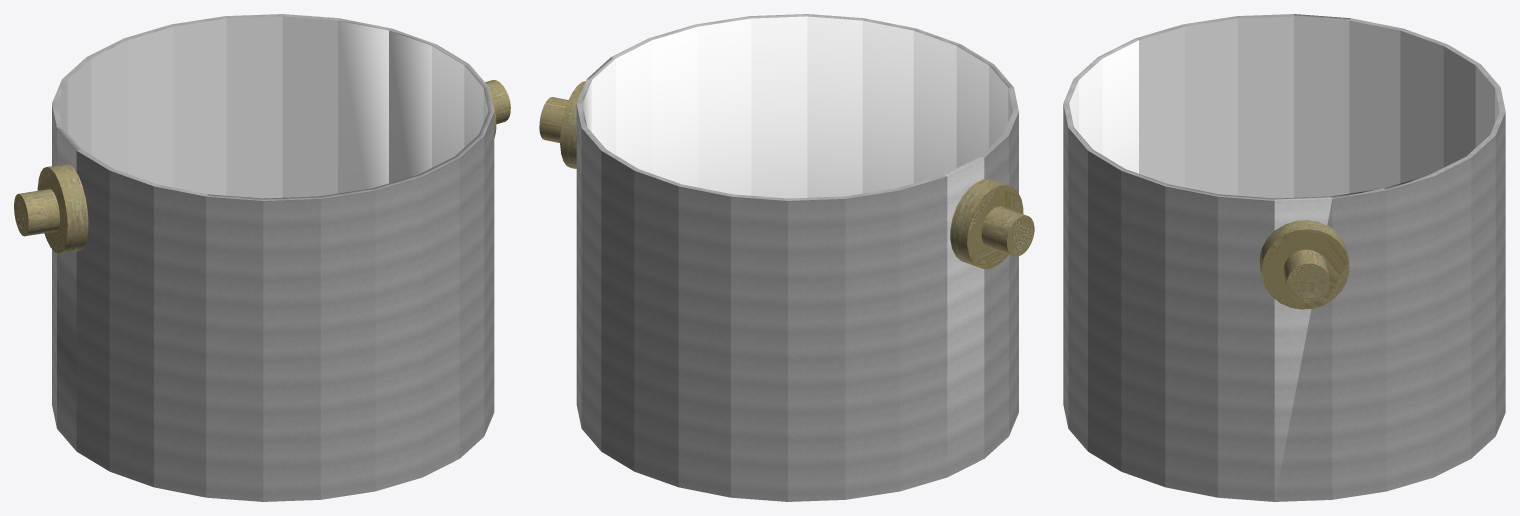
File: original-1.obj
The picture shows the model from 3 angles, left to right: view 1: azimuth 30°, elevation 25°; view 2: azimuth 150°, elevation 25°; view 3: azimuth 270°, elevation 25°; orthographic projection.
Parts seen in each view (by area): view 1: mesh1/mesh1-geometry#mesh1-geometry.042, mesh1/mesh1-geometry#mesh1-geometry.041, mesh1/mesh1-geometry#mesh1-geometry.040, mesh1/mesh1-geometry#mesh1-geometry.043, mesh1/mesh1-geometry#mesh1-geometry.039, mesh1/mesh1-geometry#mesh1-geometry.044, mesh1/mesh1-geometry#mesh1-geometry.038, mesh1/mesh1-geometry#mesh1-geometry.029, mesh1/mesh1-geometry#mesh1-geometry.030, mesh1/mesh1-geometry#mesh1-geometry.045, mesh1/mesh1-geometry#mesh1-geometry.028, mesh1/mesh1-geometry#mesh1-geometry.031 (+13 smaller); view 2: mesh1/mesh1-geometry#mesh1-geometry.049, mesh1/mesh1-geometry#mesh1-geometry.050, mesh1/mesh1-geometry#mesh1-geometry.048, mesh1/mesh1-geometry#mesh1-geometry.027, mesh1/mesh1-geometry#mesh1-geometry.047, mesh1/mesh1-geometry#mesh1-geometry.028, mesh1/mesh1-geometry#mesh1-geometry.037, mesh1/mesh1-geometry#mesh1-geometry.029, mesh1/mesh1-geometry#mesh1-geometry.038, mesh1/mesh1-geometry#mesh1-geometry.036, mesh1/mesh1-geometry#mesh1-geometry.046, mesh1/mesh1-geometry#mesh1-geometry.039 (+14 smaller); view 3: mesh1/mesh1-geometry#mesh1-geometry.034, mesh1/mesh1-geometry#mesh1-geometry.035, mesh1/mesh1-geometry#mesh1-geometry.032, mesh1/mesh1-geometry#mesh1-geometry.031, mesh1/mesh1-geometry#mesh1-geometry.036, mesh1/mesh1-geometry#mesh1-geometry.033, mesh1/mesh1-geometry#mesh1-geometry.030, mesh1/mesh1-geometry#mesh1-geometry.037, mesh1/mesh1-geometry#mesh1-geometry.045, mesh1/mesh1-geometry#mesh1-geometry.046, mesh1/mesh1-geometry#mesh1-geometry.044, mesh1/mesh1-geometry#mesh1-geometry.047 (+12 smaller).
Part boxes in pixels (<box>): mesh1/mesh1-geometry#mesh1-geometry.042: <box>206,194,263,501</box>; mesh1/mesh1-geometry#mesh1-geometry.041: <box>263,196,320,501</box>; mesh1/mesh1-geometry#mesh1-geometry.040: <box>320,188,375,499</box>; mesh1/mesh1-geometry#mesh1-geometry.043: <box>154,184,207,497</box>; mesh1/mesh1-geometry#mesh1-geometry.039: <box>373,174,422,491</box>; mesh1/mesh1-geometry#mesh1-geometry.044: <box>109,169,156,487</box>; mesh1/mesh1-geometry#mesh1-geometry.038: <box>419,156,459,476</box>; mesh1/mesh1-geometry#mesh1-geometry.029: <box>225,14,282,198</box>; mesh1/mesh1-geometry#mesh1-geometry.030: <box>282,14,339,197</box>; mesh1/mesh1-geometry#mesh1-geometry.045: <box>76,149,113,471</box>; mesh1/mesh1-geometry#mesh1-geometry.028: <box>171,16,226,195</box>; mesh1/mesh1-geometry#mesh1-geometry.031: <box>338,18,391,193</box>; mesh1/mesh1-geometry#mesh1-geometry.049: <box>788,196,845,501</box>; mesh1/mesh1-geometry#mesh1-geometry.050: <box>731,194,788,501</box>; mesh1/mesh1-geometry#mesh1-geometry.048: <box>844,188,899,499</box>; mesh1/mesh1-geometry#mesh1-geometry.027: <box>678,184,732,497</box>; mesh1/mesh1-geometry#mesh1-geometry.047: <box>897,174,947,491</box>; mesh1/mesh1-geometry#mesh1-geometry.028: <box>634,169,681,487</box>; mesh1/mesh1-geometry#mesh1-geometry.037: <box>750,14,807,198</box>; mesh1/mesh1-geometry#mesh1-geometry.029: <box>601,149,637,471</box>; mesh1/mesh1-geometry#mesh1-geometry.038: <box>807,14,863,197</box>; mesh1/mesh1-geometry#mesh1-geometry.036: <box>696,16,751,195</box>; mesh1/mesh1-geometry#mesh1-geometry.046: <box>943,156,984,477</box>; mesh1/mesh1-geometry#mesh1-geometry.039: <box>862,18,916,193</box>; mesh1/mesh1-geometry#mesh1-geometry.034: <box>1218,194,1274,501</box>; mesh1/mesh1-geometry#mesh1-geometry.035: <box>1165,184,1219,497</box>; mesh1/mesh1-geometry#mesh1-geometry.032: <box>1331,188,1386,499</box>; mesh1/mesh1-geometry#mesh1-geometry.031: <box>1384,175,1433,491</box>; mesh1/mesh1-geometry#mesh1-geometry.036: <box>1121,169,1167,486</box>; mesh1/mesh1-geometry#mesh1-geometry.033: <box>1274,196,1332,501</box>; mesh1/mesh1-geometry#mesh1-geometry.030: <box>1430,156,1471,477</box>; mesh1/mesh1-geometry#mesh1-geometry.037: <box>1088,149,1124,471</box>; mesh1/mesh1-geometry#mesh1-geometry.045: <box>1237,14,1294,198</box>; mesh1/mesh1-geometry#mesh1-geometry.046: <box>1294,14,1350,197</box>; mesh1/mesh1-geometry#mesh1-geometry.044: <box>1182,16,1237,195</box>; mesh1/mesh1-geometry#mesh1-geometry.047: <box>1349,18,1402,193</box>.
Size of the model in its own units: 1.32 by 0.79 by 1.05.
